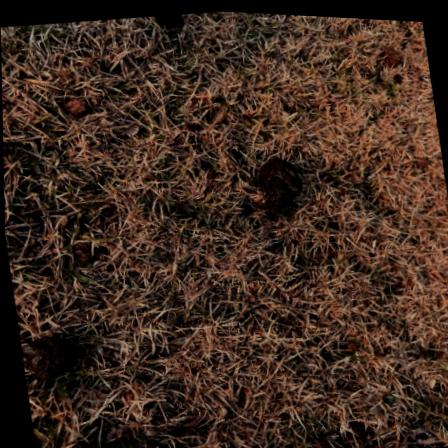dog-poop: (250, 140, 317, 221)
